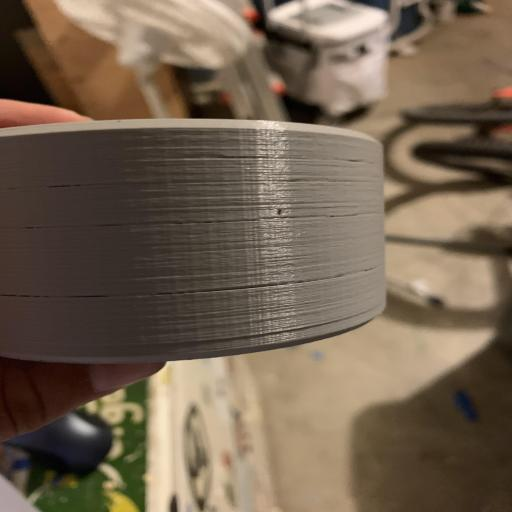cracks: (171, 266, 454, 301), (212, 200, 432, 228), (1, 288, 113, 307)
